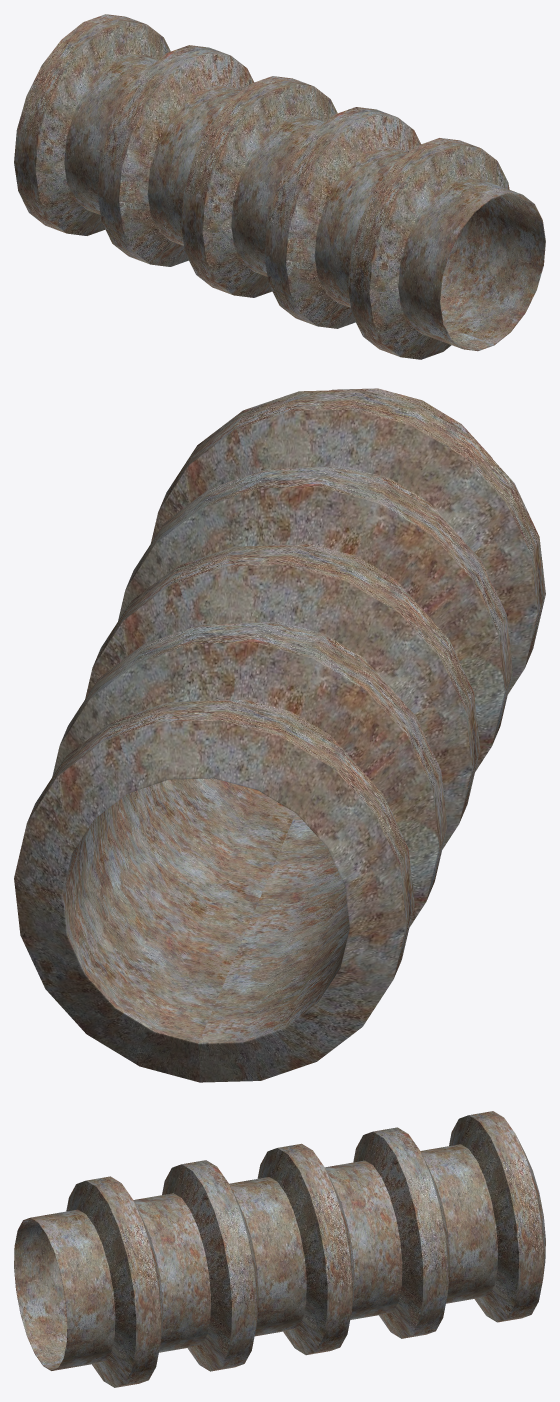
Rendered from gaspipe_Small_Rigid.fbx.
The picture shows the model from 3 angles, top to bottom: view 1: azimuth 30°, elevation 25°; view 2: azimuth 150°, elevation 25°; view 3: azimuth 270°, elevation 25°; orthographic projection. The views are drawn at different scales.
Visible parts, largest first — view 1: pPipe4; view 2: pPipe4; view 3: pPipe4.
Boxes of the visible parts, bbox=[...] form: pPipe4: bbox=[14, 14, 545, 359]; pPipe4: bbox=[14, 388, 545, 1082]; pPipe4: bbox=[14, 1111, 545, 1387].
Size of the model in its own units: 4.42 by 2.76 by 6.77.
1 material, 1 textured.
